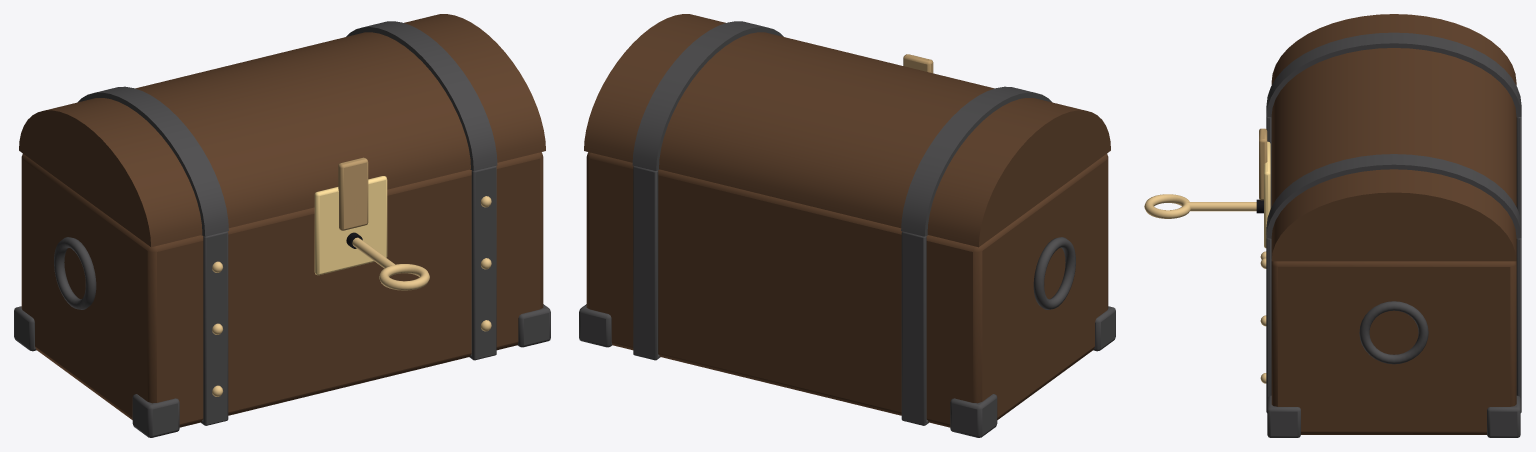
Rendered from chest.glb.
3 renders of one model, left to right at view 1: azimuth 30°, elevation 25°; view 2: azimuth 150°, elevation 25°; view 3: azimuth 270°, elevation 25°, orthographic. The views are drawn at different scales.
Parts seen in each view (by area): view 1: body, lid, bandLid.001, bandLid, bandF, bandF.001, lockplate, hasp, handle, corner, corner.002, keybow (+1 smaller); view 2: body, lid, bandB, bandB.001, bandLid.001, bandLid, handle, corner.001, corner.003, corner; view 3: lid, body, bandLid.001, bandLid, handle.001, corner.002, corner.003, bandF.001, bandB.001, keybow, keyshaft, bandB (+2 smaller).
Part boxes in pixels (x1=…): body: x1=21, y1=152, x2=543, y2=427; lid: x1=19, y1=14, x2=545, y2=247; bandLid.001: x1=346, y1=21, x2=497, y2=170; bandLid: x1=77, y1=86, x2=228, y2=236; bandF: x1=203, y1=231, x2=228, y2=425; bandF.001: x1=471, y1=166, x2=496, y2=360; lockplate: x1=314, y1=176, x2=387, y2=275; hasp: x1=338, y1=157, x2=368, y2=230; handle: x1=54, y1=237, x2=96, y2=309; corner: x1=132, y1=394, x2=179, y2=437; corner.002: x1=518, y1=304, x2=550, y2=347; keybow: x1=379, y1=264, x2=429, y2=290; body: x1=586, y1=152, x2=1108, y2=427; lid: x1=584, y1=14, x2=1110, y2=247; bandB: x1=901, y1=231, x2=926, y2=425; bandB.001: x1=633, y1=166, x2=658, y2=360; bandLid.001: x1=632, y1=21, x2=783, y2=170; bandLid: x1=901, y1=86, x2=1052, y2=236; handle: x1=1033, y1=237, x2=1075, y2=309; corner.001: x1=950, y1=394, x2=997, y2=437; corner.003: x1=579, y1=304, x2=611, y2=347; corner: x1=1093, y1=306, x2=1115, y2=351; lid: x1=1271, y1=14, x2=1516, y2=261; body: x1=1271, y1=261, x2=1516, y2=434; bandLid.001: x1=1266, y1=154, x2=1521, y2=238; bandLid: x1=1266, y1=32, x2=1521, y2=117; handle.001: x1=1359, y1=301, x2=1428, y2=364; corner.002: x1=1267, y1=395, x2=1300, y2=437; corner.003: x1=1487, y1=395, x2=1520, y2=437; bandF.001: x1=1266, y1=238, x2=1271, y2=412; bandB.001: x1=1516, y1=238, x2=1521, y2=412; keybow: x1=1144, y1=194, x2=1190, y2=218; keyshaft: x1=1187, y1=202, x2=1256, y2=211; bandB: x1=1516, y1=117, x2=1521, y2=225.
Bounding box in the file's own units: 1.07 × 0.6518 × 0.893.
